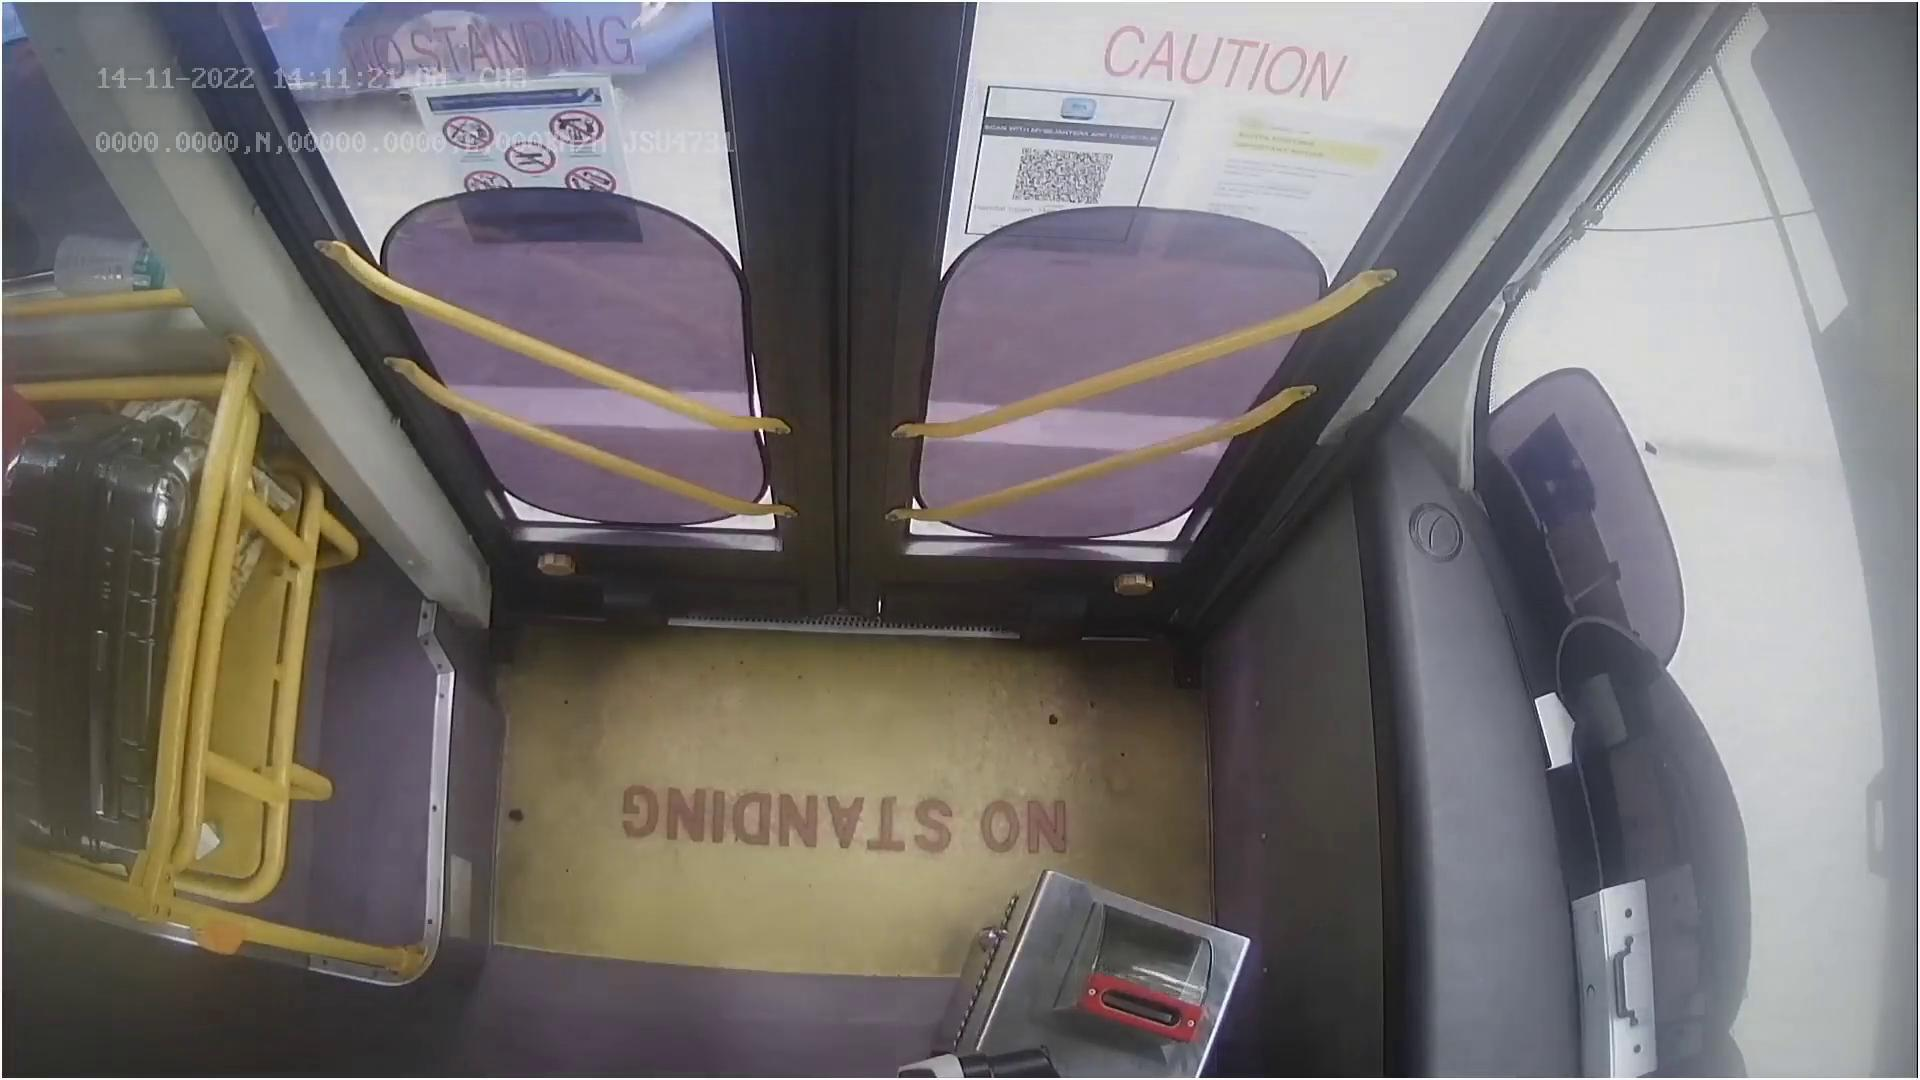close: (286, 0, 1447, 158)
